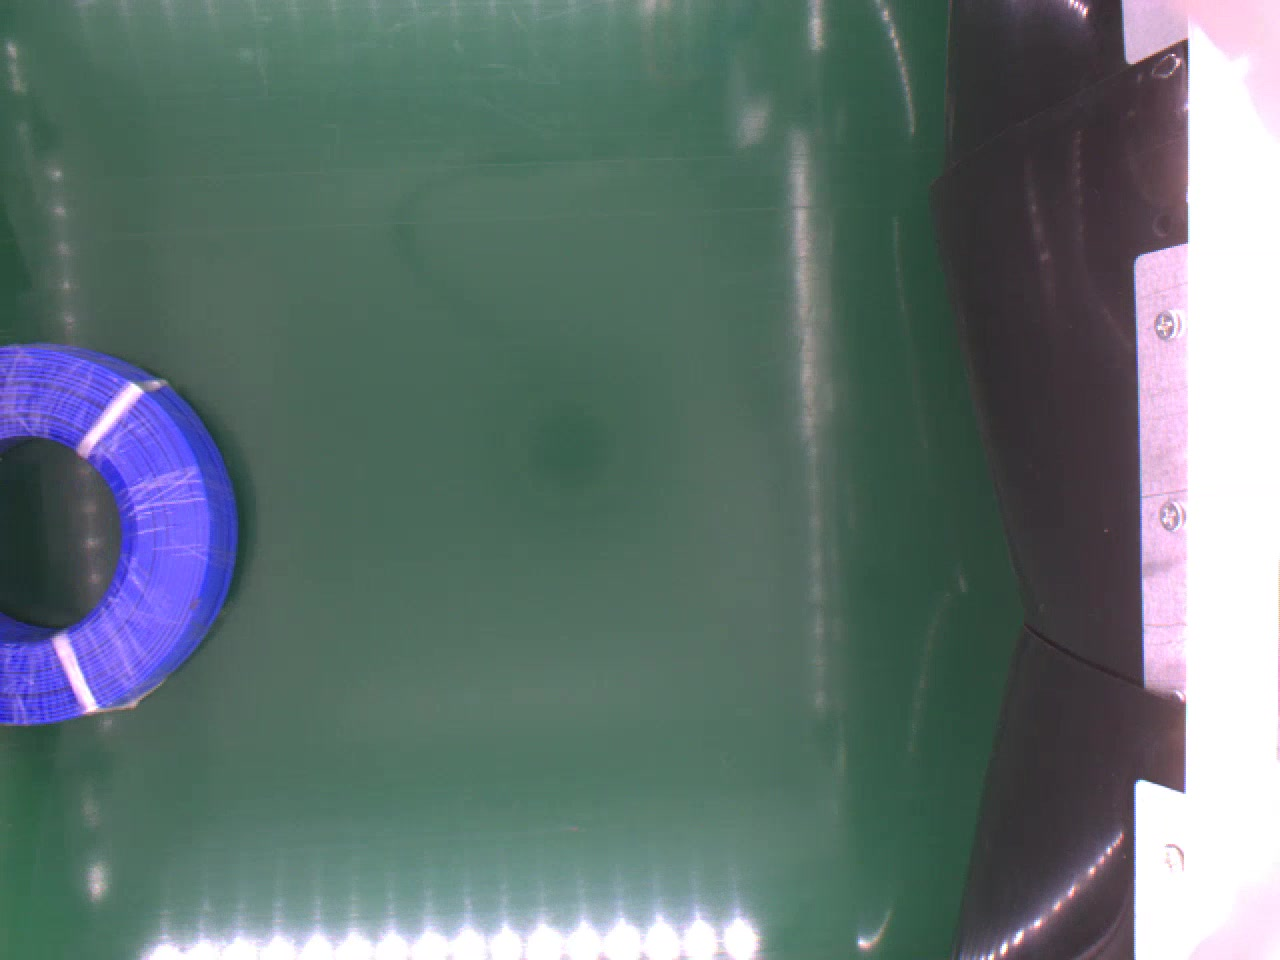blue: (0, 341, 249, 730)
